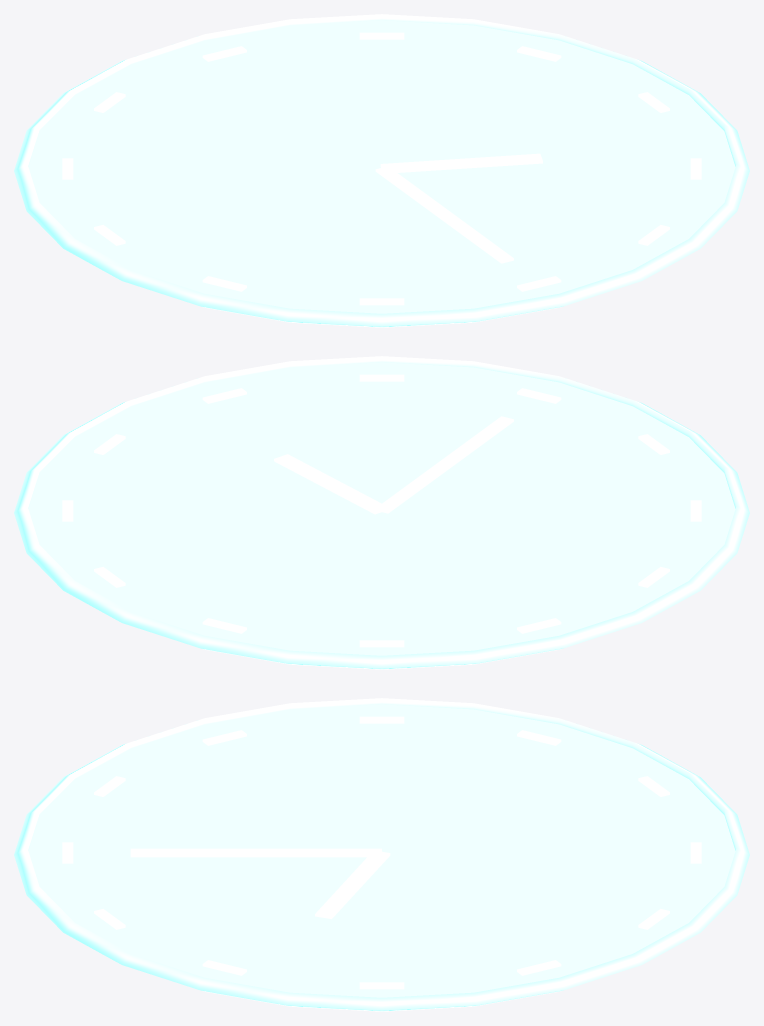
The model's file is fx_boss_time_zone.glb.
The picture shows the model from 3 angles, top to bottom: view 1: azimuth 30°, elevation 25°; view 2: azimuth 150°, elevation 25°; view 3: azimuth 270°, elevation 25°; orthographic projection.
Parts seen in each view (by area): view 1: zone_zoneFloor, zone_zoneRim, zone_zoneTick, hands_zoneHand; view 2: zone_zoneFloor, zone_zoneRim, zone_zoneTick, hands_zoneHand; view 3: zone_zoneFloor, zone_zoneRim, hands_zoneHand, zone_zoneTick.
Part boxes in pixels (bbox=[...]): zone_zoneFloor: bbox=[28, 20, 735, 313]; zone_zoneRim: bbox=[14, 14, 749, 327]; zone_zoneTick: bbox=[62, 32, 701, 305]; hands_zoneHand: bbox=[375, 153, 542, 263]; zone_zoneFloor: bbox=[28, 362, 735, 655]; zone_zoneRim: bbox=[14, 356, 749, 669]; zone_zoneTick: bbox=[62, 374, 701, 647]; hands_zoneHand: bbox=[274, 416, 513, 514]; zone_zoneFloor: bbox=[28, 704, 735, 997]; zone_zoneRim: bbox=[14, 698, 749, 1011]; hands_zoneHand: bbox=[130, 848, 390, 918]; zone_zoneTick: bbox=[62, 716, 701, 989].
Bounding box in the file's own units: 4.1 × 0.0866 × 4.1.
